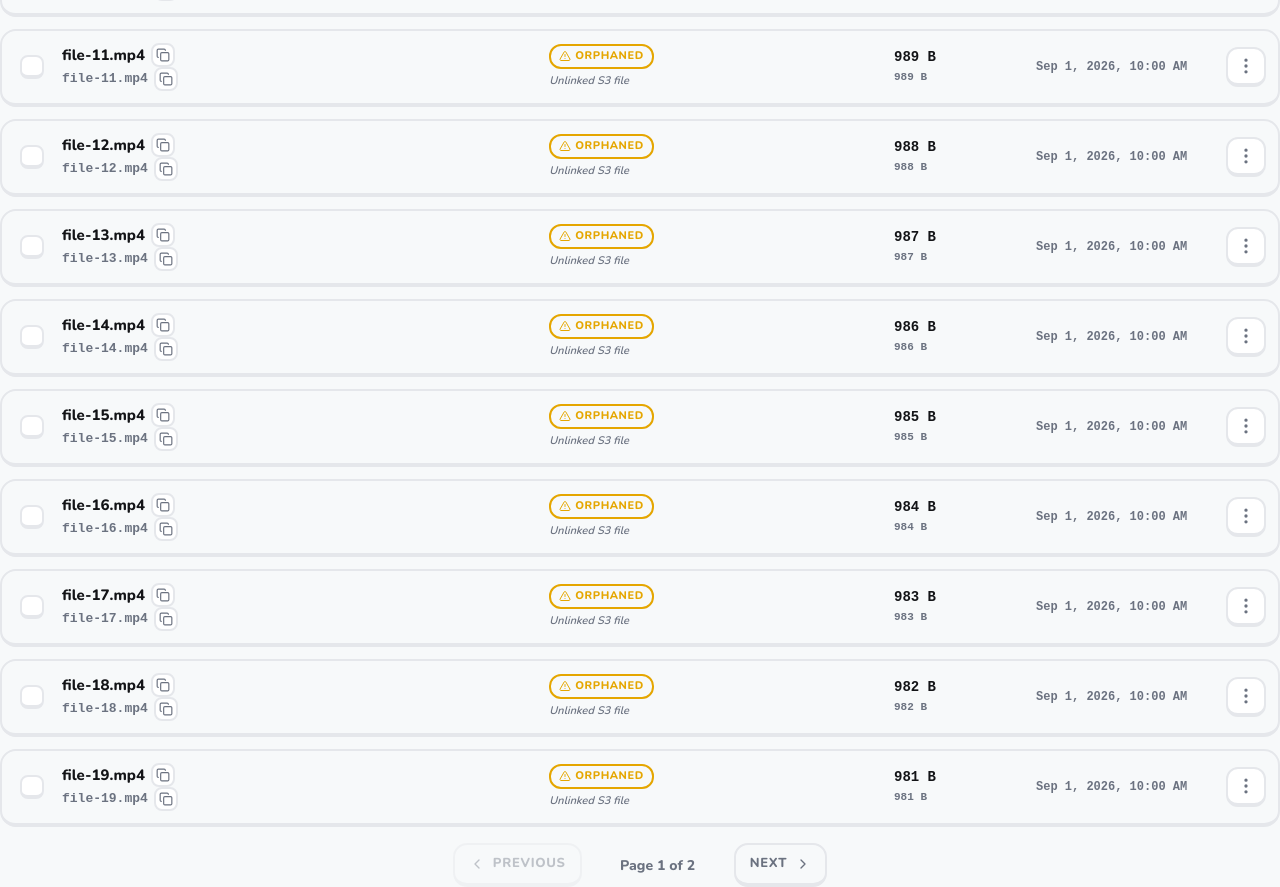
Test: StorageResourceTable polish › StorageResourceTable pagination › renders ChunkyPaginationBar and navigates to the next page
This screenshot has width=1280, height=887.
(page scrolled)
Expected: the text "Page 1 of 2" is shown, [620,856,695,874]
Step 1. Click the button with aria-label "Next page" → click(780, 865), box [734,843,827,886]
(page scrolled)
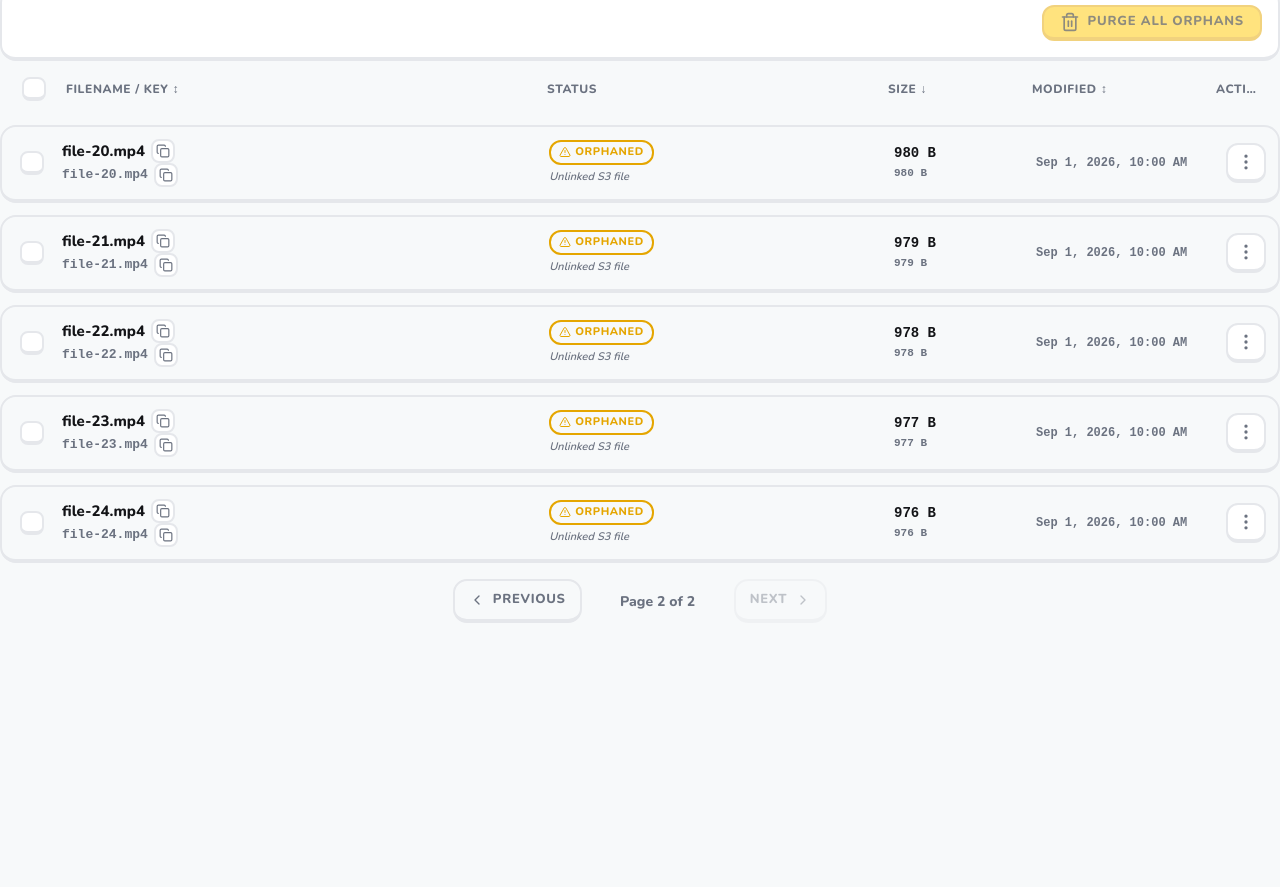
Result: the text "Page 2 of 2" is shown at [620,592,695,610]
Note: Previous navigates back
Step 2. Click the button with aria-label "Previous page" → click(517, 601), box [453,579,582,623]
(page scrolled)
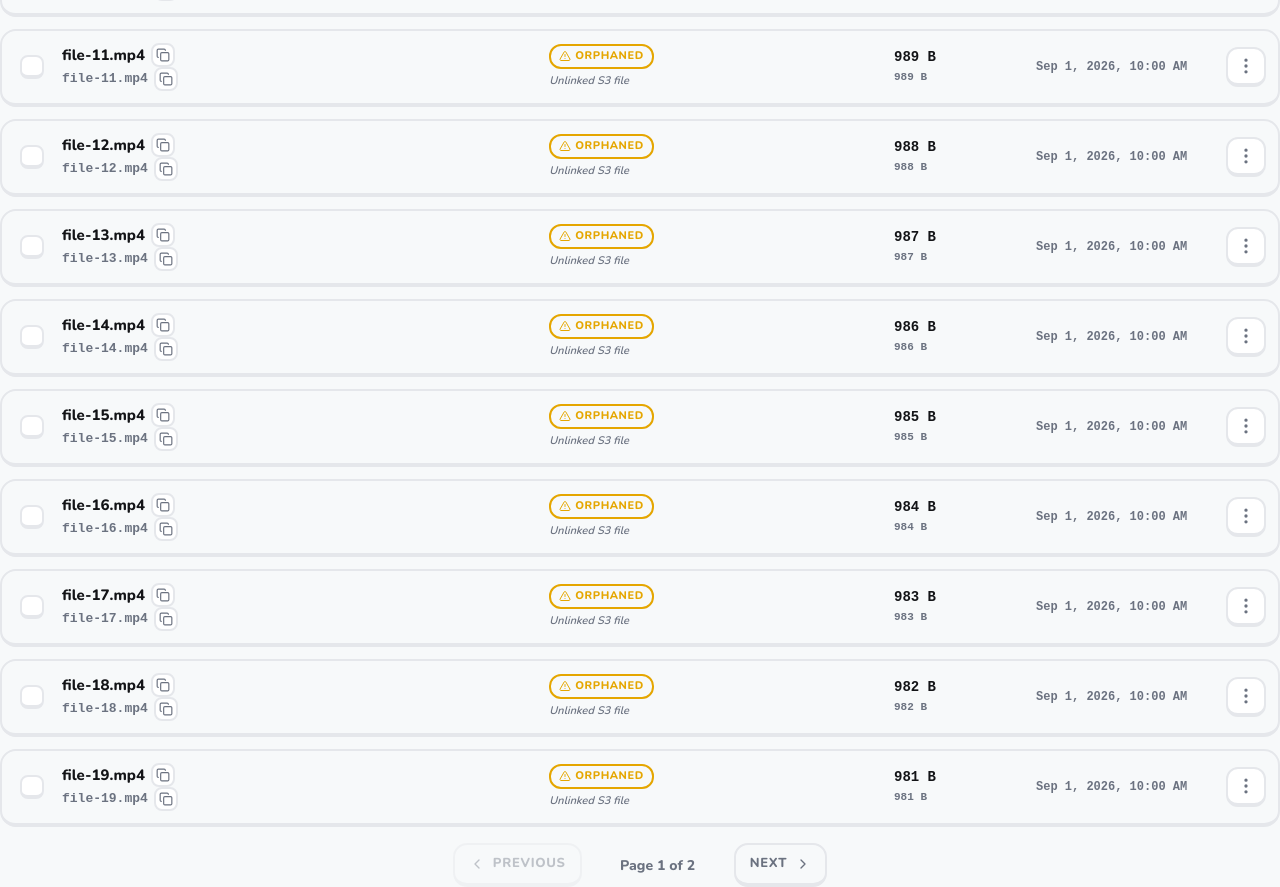
Result: the text "Page 1 of 2" is shown at [620,856,695,874]
